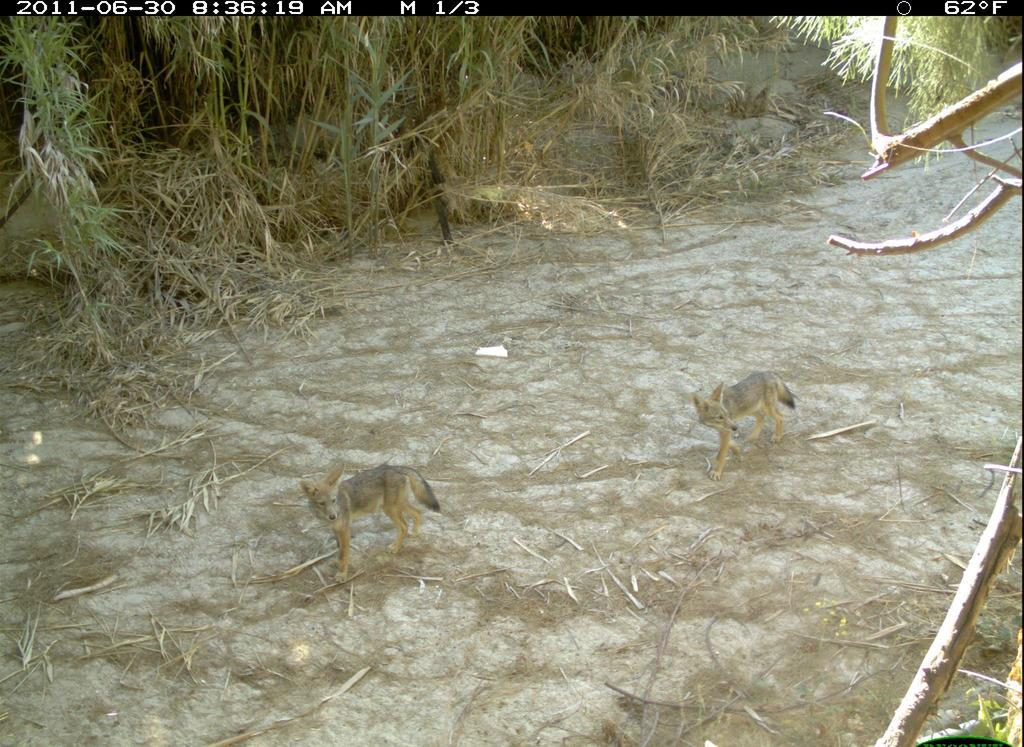coyote: (286, 443, 481, 596), (681, 368, 806, 487)
